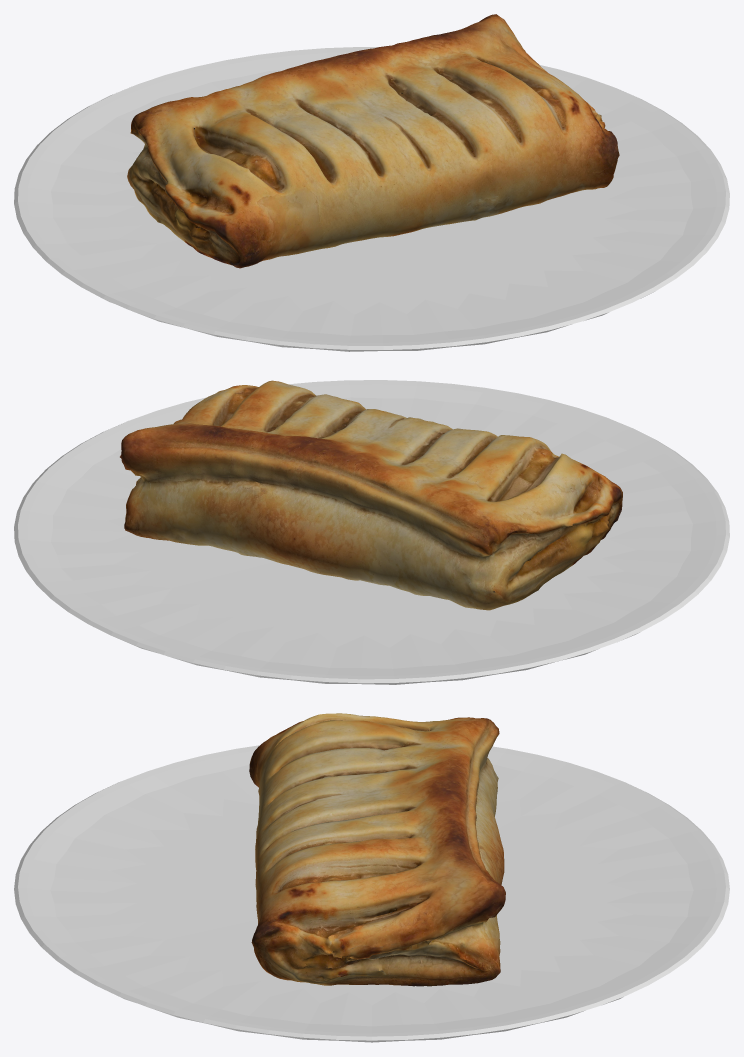
Rendered from shawarma.glb.
3 renders of one model, top to bottom at view 1: azimuth 30°, elevation 25°; view 2: azimuth 150°, elevation 25°; view 3: azimuth 270°, elevation 25°, orthographic.
Parts seen in each view (by area): view 1: Cylinder, AppleStrudel.obj; view 2: Cylinder, AppleStrudel.obj; view 3: Cylinder, AppleStrudel.obj.
Boxes of the visible parts, left/top/right/bottom form: Cylinder: left=14, top=47, right=729, bottom=351; AppleStrudel.obj: left=127, top=14, right=619, bottom=268; Cylinder: left=14, top=380, right=729, bottom=684; AppleStrudel.obj: left=120, top=380, right=622, bottom=610; Cylinder: left=14, top=745, right=729, bottom=1042; AppleStrudel.obj: left=249, top=713, right=505, bottom=986.
Bounding box in the file's own units: 1.78 × 0.3427 × 1.78.
Materials: 2 (1 with a texture image).
